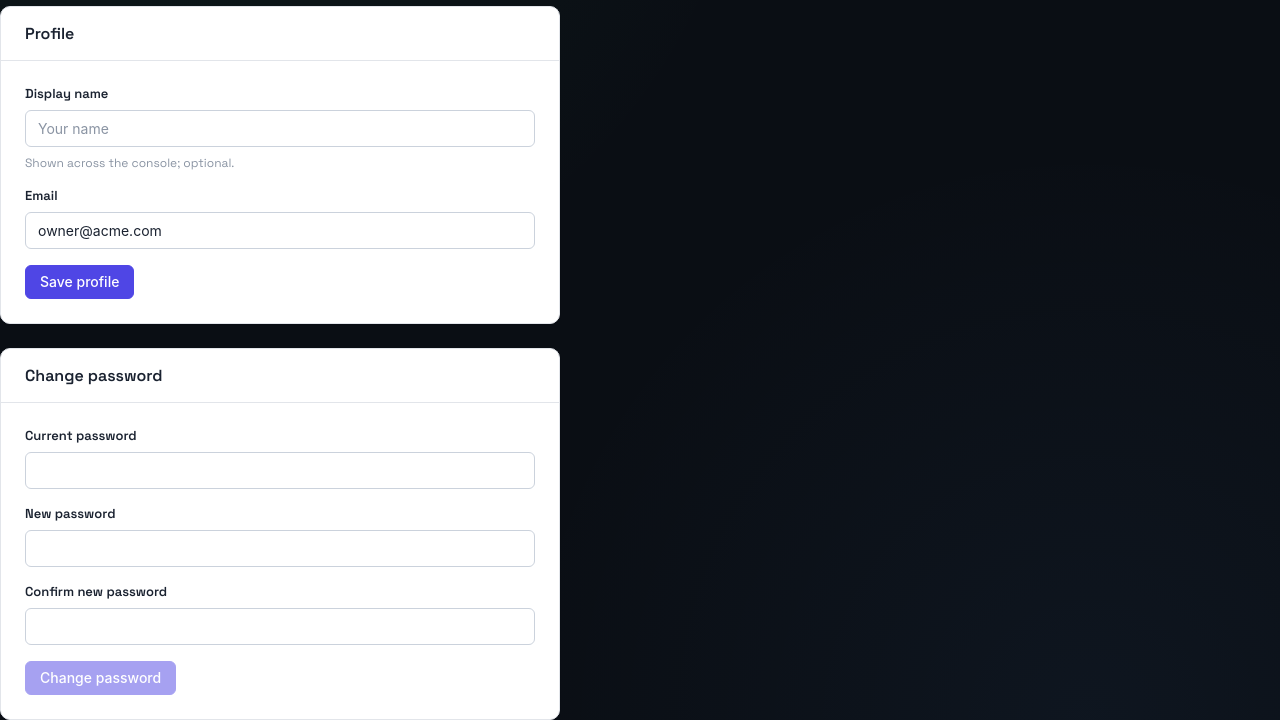
ProfileScreen password change (S96) › disables the button until current + matching 8+ char new password are present
(page scrolled)
Expected: the button with test id "pw-save" is disabled, [25,661,176,695]
Type "oldpass1" into the password field with test id "p-current" at [280, 471], box [25,452,535,489]
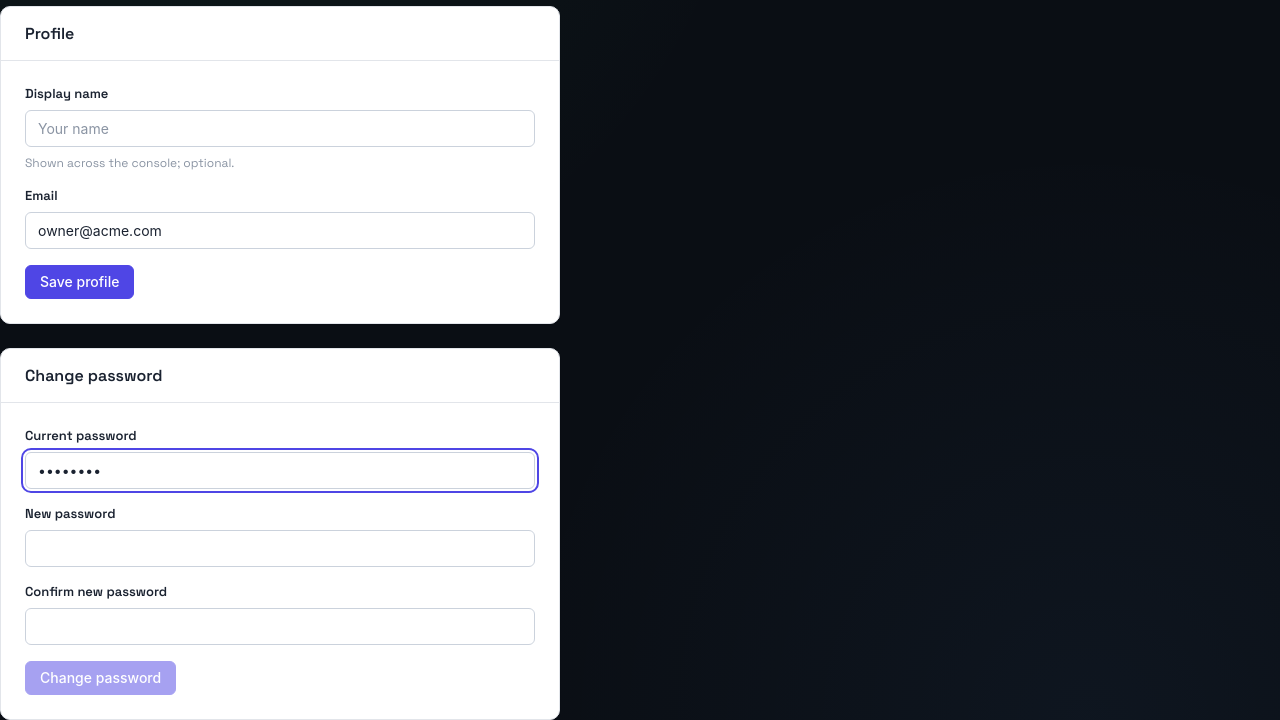
Type "newpass123" into the password field with test id "p-new" at [280, 549], box [25,530,535,567]
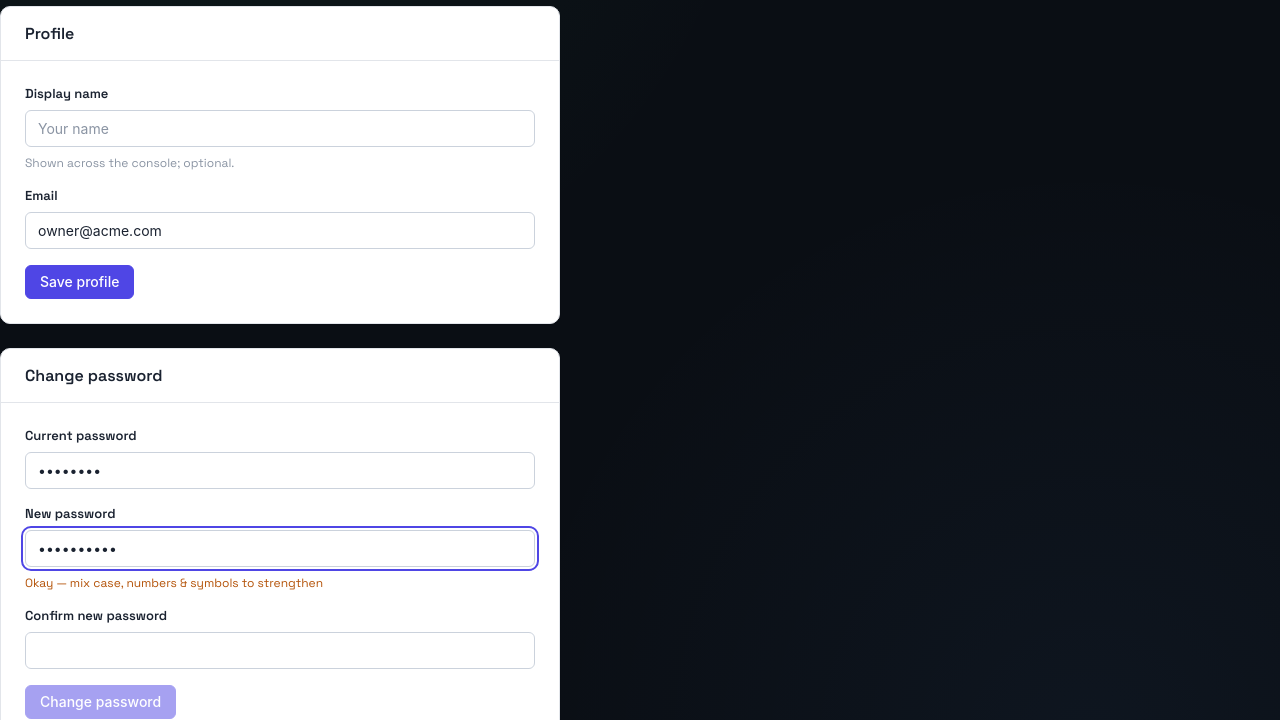
Expected: the button with test id "pw-save" is disabled, [25,685,176,719]
Type "newpass123" into the password field with test id "p-confirm" at [280, 651], box [25,632,535,669]
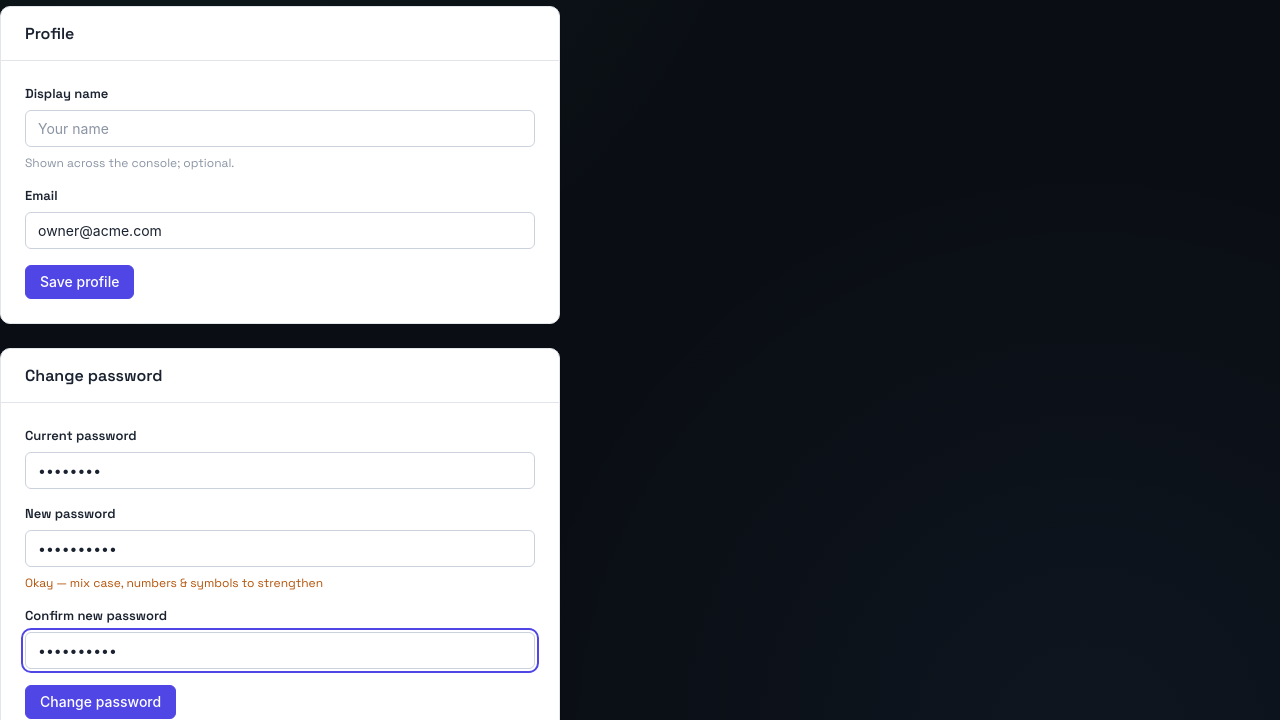
Expected: the button with test id "pw-save" is enabled, [25,685,176,719]
